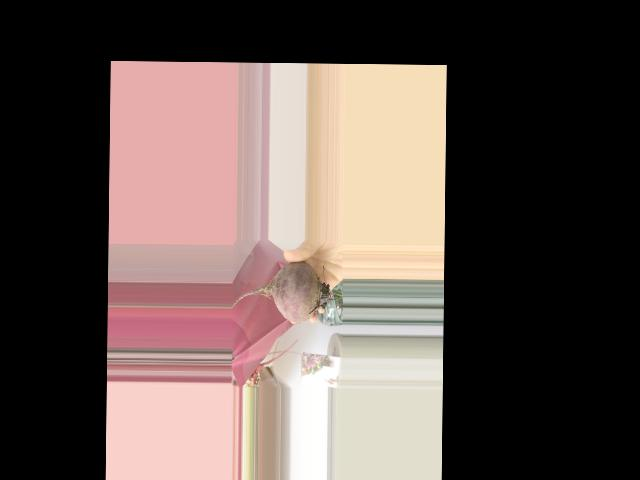beet: (232, 261, 343, 323)
